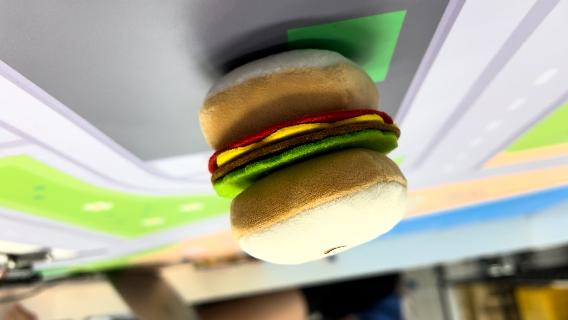sandwich: (196, 46, 412, 266)
